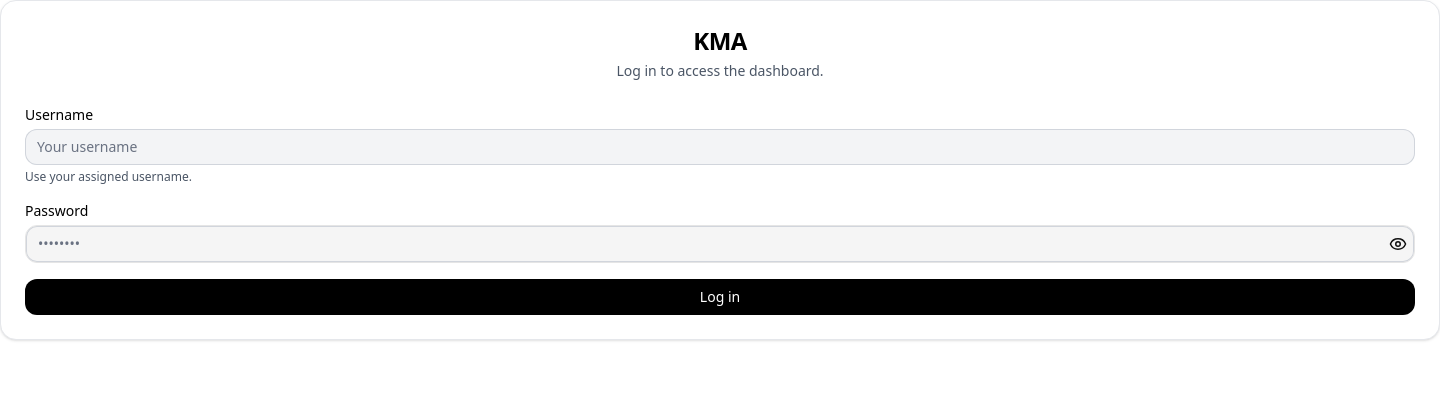
Test: LoginForm › shows validation errors when submitting empty fields
What coordinates should you click on to do the following:
click the button "Log in"
I would click on:
 (720, 297)
Its box is [25,279,1415,315].
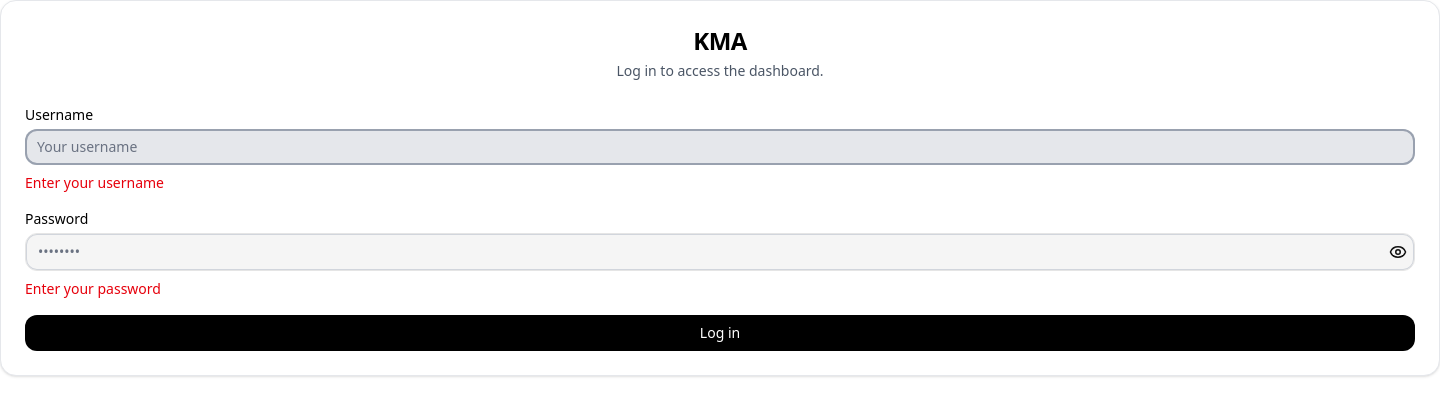
Expected: the text "Enter your username" is shown, [25,173,164,192]
Expected: the text "Enter your password" is shown, [25,279,161,298]
